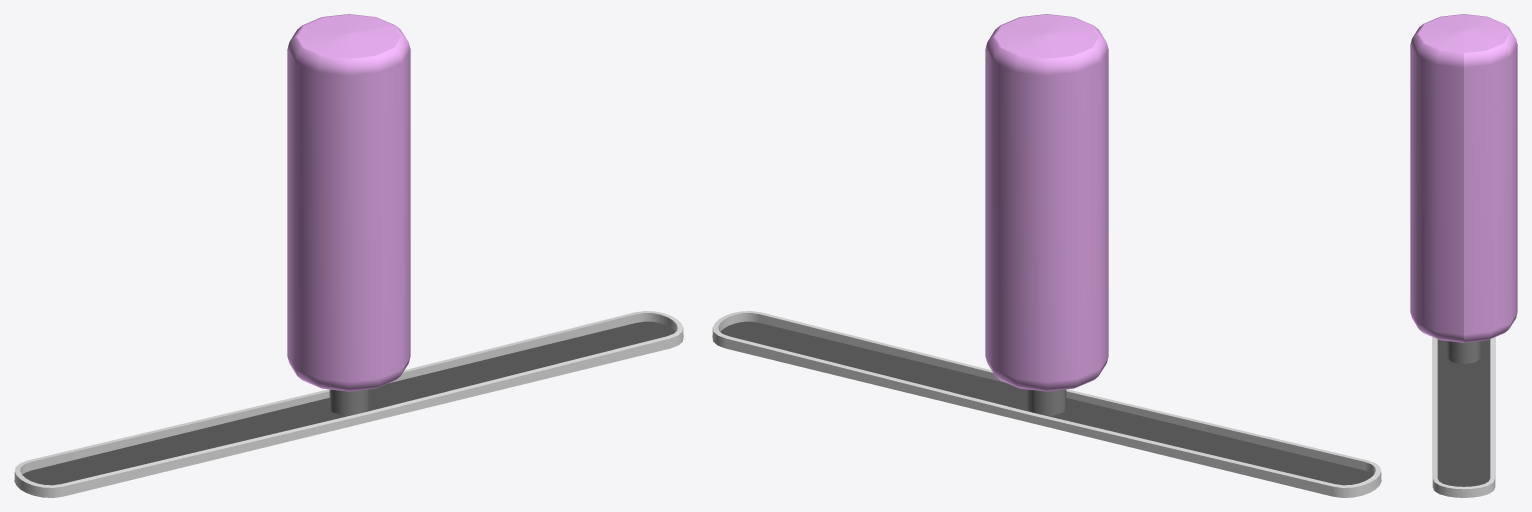
File: Obstacle_47.fbx
3 views of the same model, side by side, from view 1: azimuth 30°, elevation 25°; view 2: azimuth 150°, elevation 25°; view 3: azimuth 270°, elevation 25° (orthographic). The views are drawn at different scales.
Parts seen in each view (by area): view 1: Quay, De; view 2: Quay, De; view 3: Quay, De.
Boxes of the visible parts, x1,y1,x2,y2 form: Quay: (287,14,410,415); De: (14,311,683,497); Quay: (985,14,1108,415); De: (712,311,1381,497); Quay: (1410,14,1517,364); De: (1432,337,1495,497).
Size of the model in its own units: 5.5 by 3 by 0.8945.
